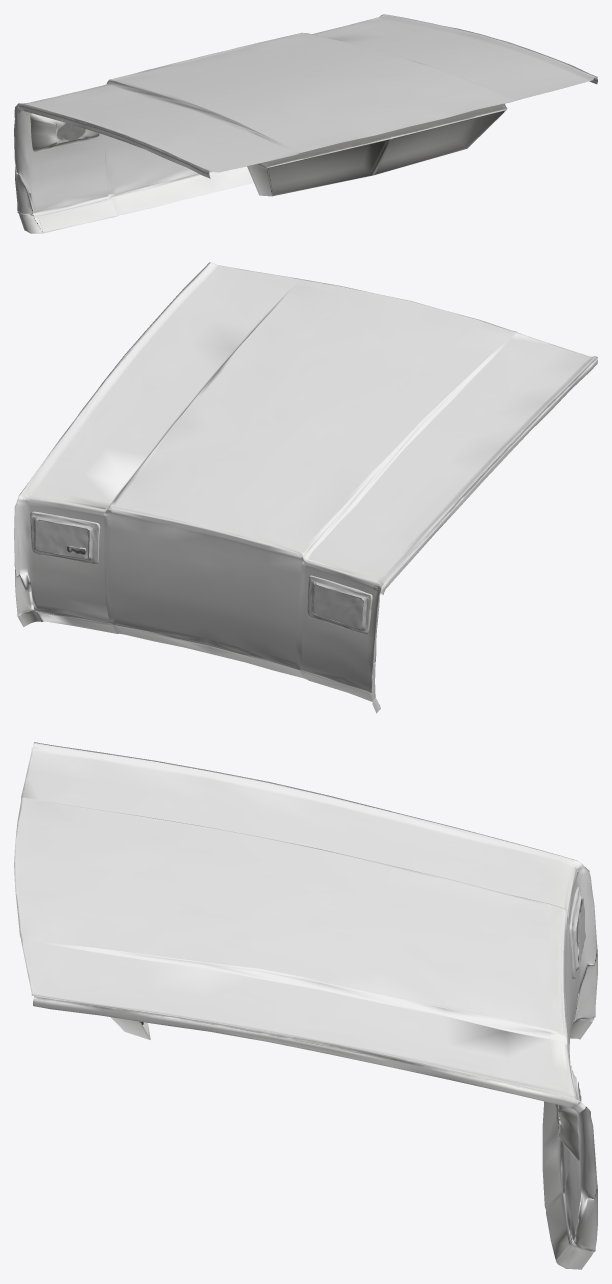
Rendered from original_glb.glb.
3 renders of one model, top to bottom at view 1: azimuth 30°, elevation 25°; view 2: azimuth 150°, elevation 25°; view 3: azimuth 270°, elevation 25°, orthographic. The views are drawn at different scales.
Visible parts, largest first — view 1: White Wedge Hood Panel; view 2: White Wedge Hood Panel; view 3: White Wedge Hood Panel.
Part boxes in pixels (x1,y1,x2,y2): White Wedge Hood Panel: (14,14,597,233); White Wedge Hood Panel: (14,262,597,713); White Wedge Hood Panel: (14,742,597,1269).
Size of the model in its own units: 0.998 by 0.5293 by 0.9668.
1 material, 1 textured.
